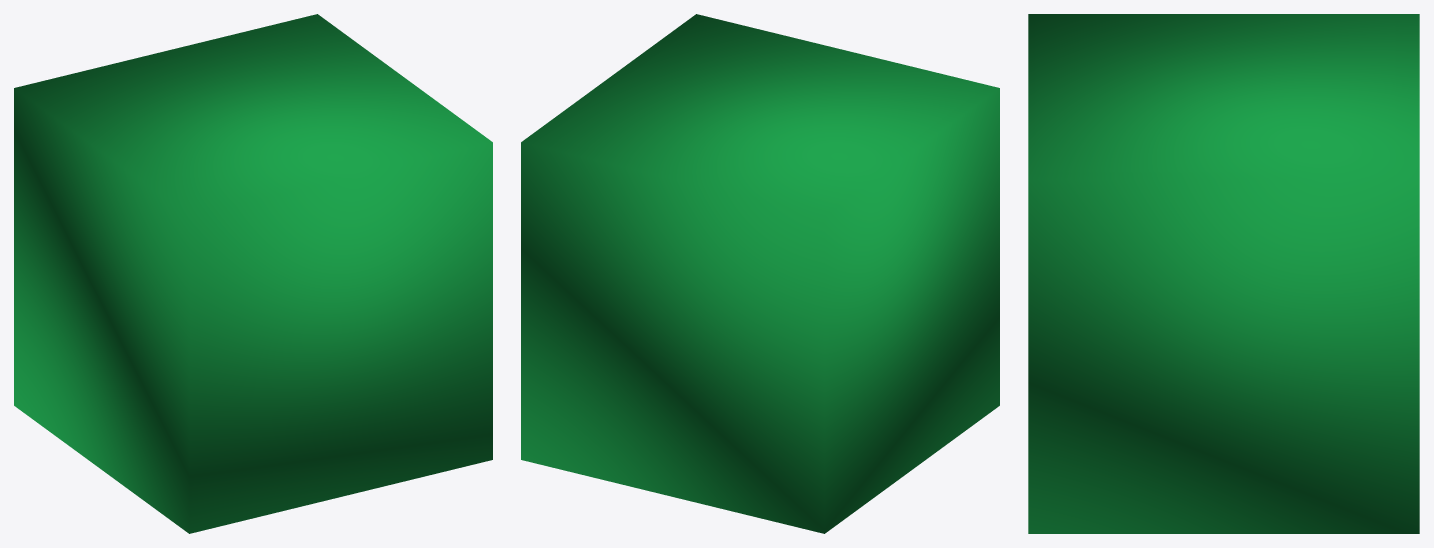
The model's file is ps2_jrpg_rebel_field_kit.obj.
3 renders of one model, left to right at view 1: azimuth 30°, elevation 25°; view 2: azimuth 150°, elevation 25°; view 3: azimuth 270°, elevation 25°, orthographic. The views are drawn at different scales.
Bounding box in the file's own units: 1 × 1 × 1.
